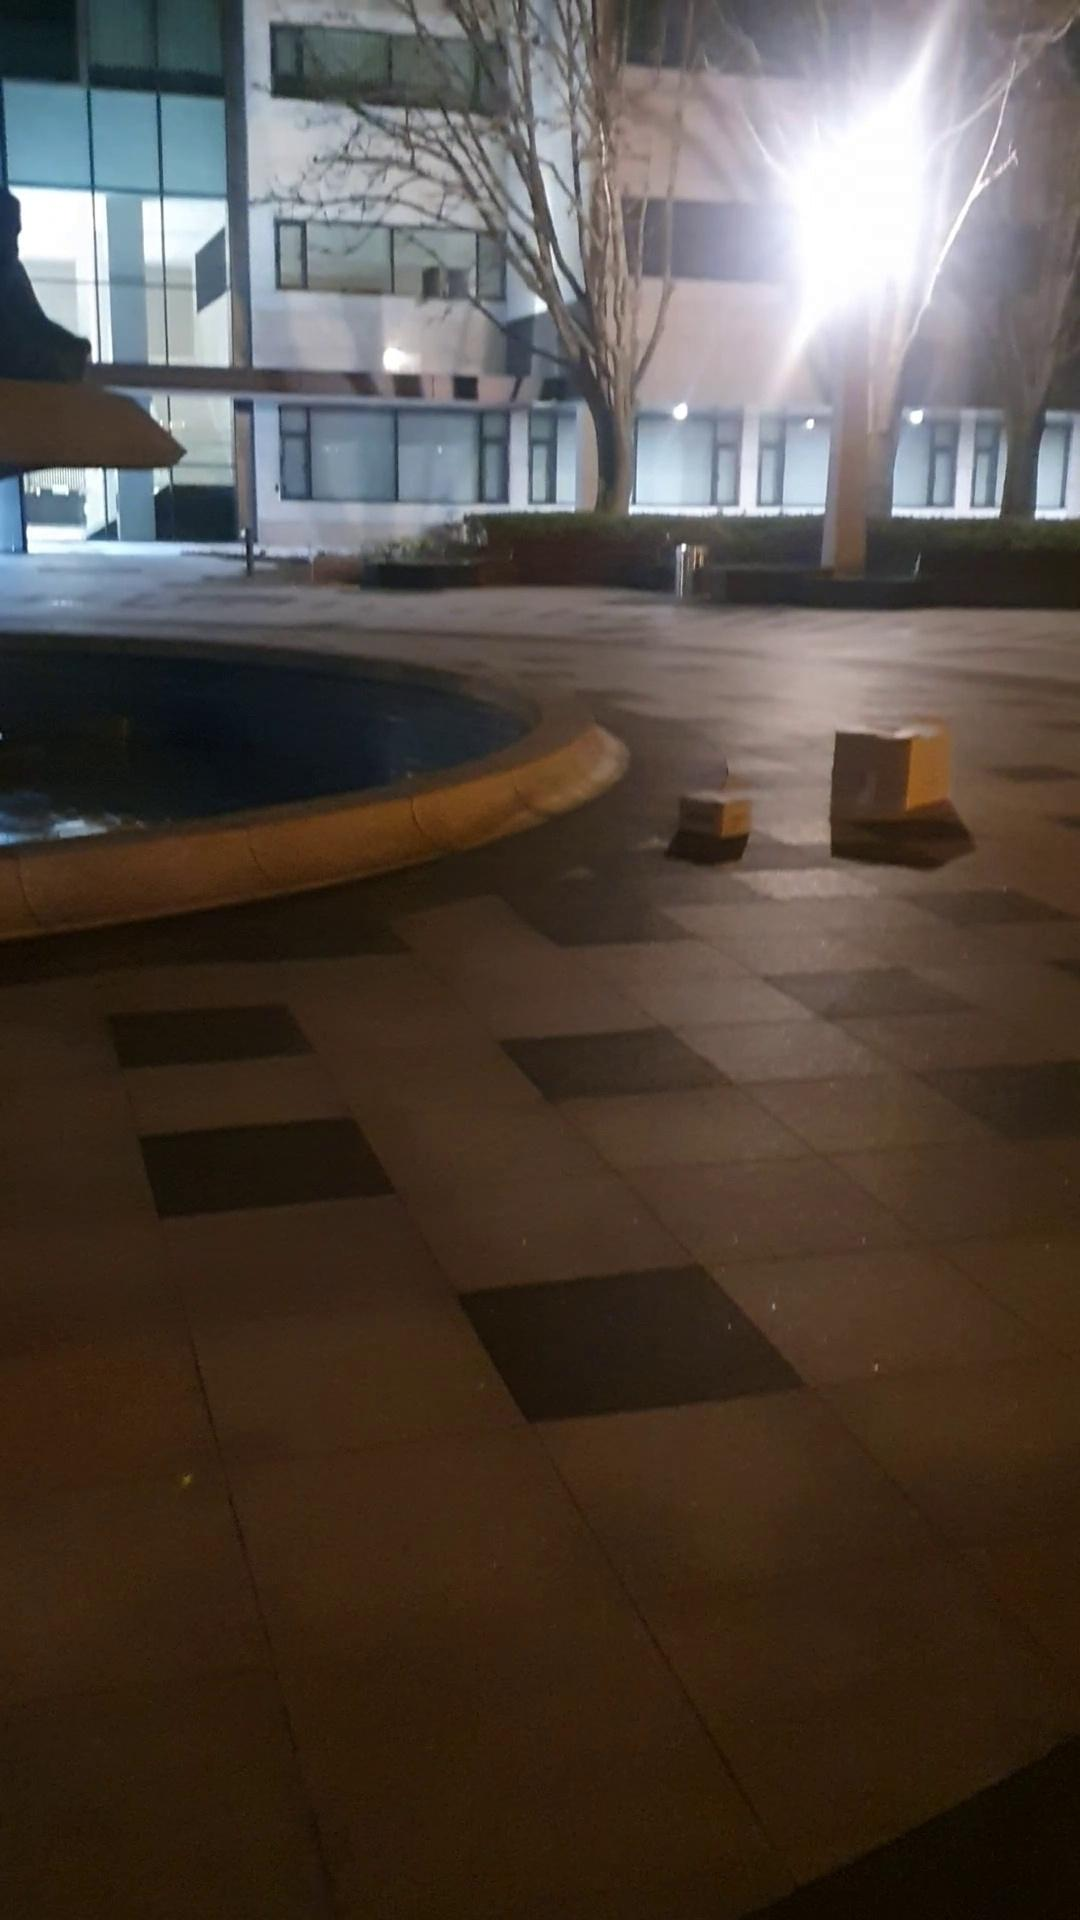Box: (828, 708, 953, 833), (666, 781, 757, 843)
